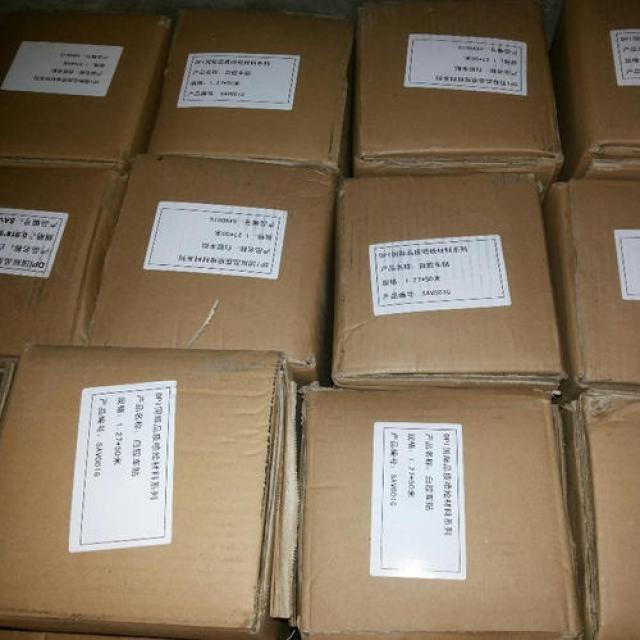box: (0, 347, 303, 638), (297, 387, 590, 639), (86, 154, 338, 388), (331, 171, 561, 399), (354, 6, 566, 202), (146, 7, 356, 175), (0, 3, 172, 166), (0, 159, 122, 360), (544, 182, 639, 395), (564, 395, 639, 638), (546, 4, 639, 182), (0, 360, 15, 418)
